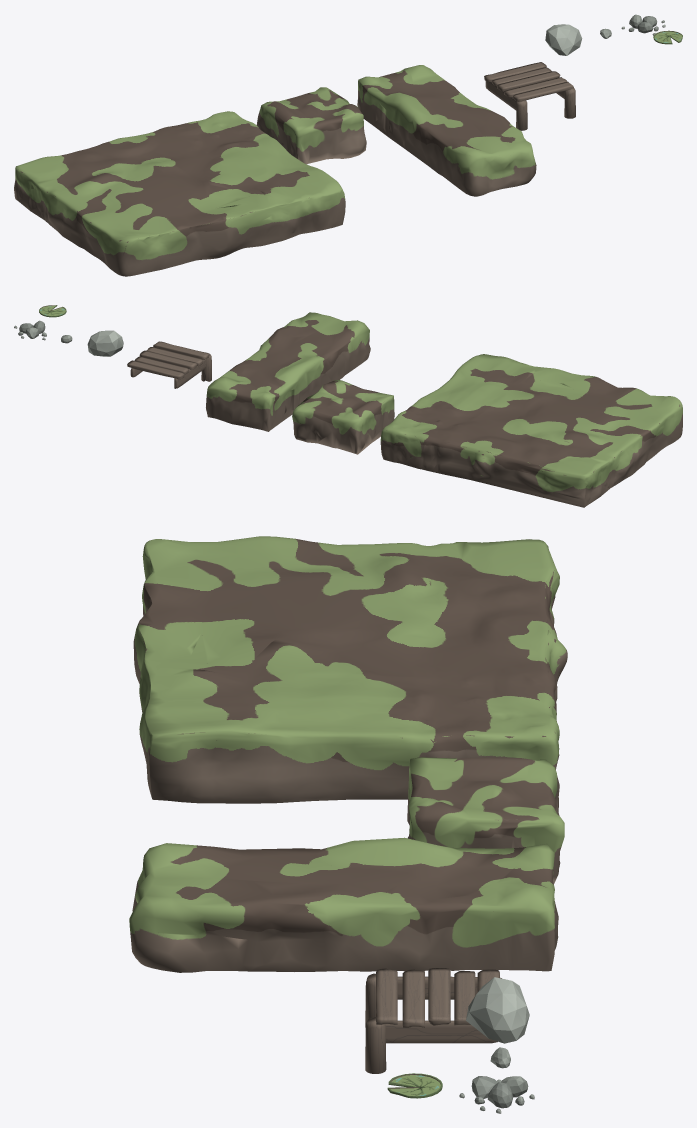
File: suelos1.glb
3 renders of one model, top to bottom at view 1: azimuth 30°, elevation 25°; view 2: azimuth 150°, elevation 25°; view 3: azimuth 270°, elevation 25°, orthographic. The views are drawn at different scales.
Visible parts, largest first — view 1: suelo_bloque.001, suelo_largo, suelo_bloque, pasarela, piedra_grande, piedras; view 2: suelo_bloque.001, suelo_largo, suelo_bloque, pasarela, piedra_grande, piedras; view 3: suelo_bloque.001, suelo_largo, suelo_bloque, pasarela, piedra_grande, piedras, nenufar.
Part boxes in pixels (x1,y1,x2,y2): suelo_bloque.001: (14,111,345,276); suelo_largo: (357,65,536,196); suelo_bloque: (256,87,366,164); pasarela: (484,62,575,130); piedra_grande: (545,24,582,55); piedras: (621,14,665,35); suelo_bloque.001: (380,354,682,507); suelo_largo: (206,312,370,431); suelo_bloque: (292,379,394,454); pasarela: (127,341,211,388); piedra_grande: (87,330,123,356); piedras: (14,320,46,340); suelo_bloque.001: (133,536,567,803); suelo_largo: (129,837,558,972); suelo_bloque: (407,757,564,883); pasarela: (365,968,501,1073); piedra_grande: (466,977,529,1043); piedras: (459,1076,534,1113); nenufar: (387,1073,442,1098).
Bounding box in the file's own units: 49.41 × 4.45 × 15.96.
Materials: 8 (8 with a texture image).
